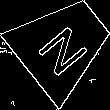N_NE: (32, 13, 95, 76)
